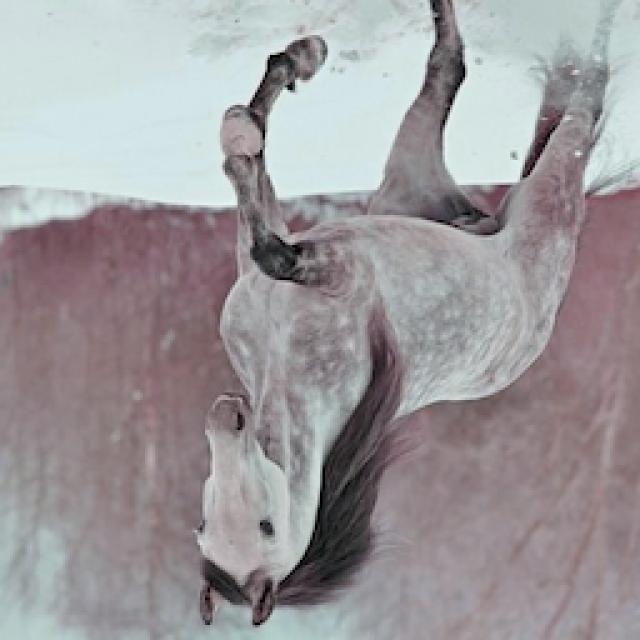Horse: (182, 2, 638, 632)
